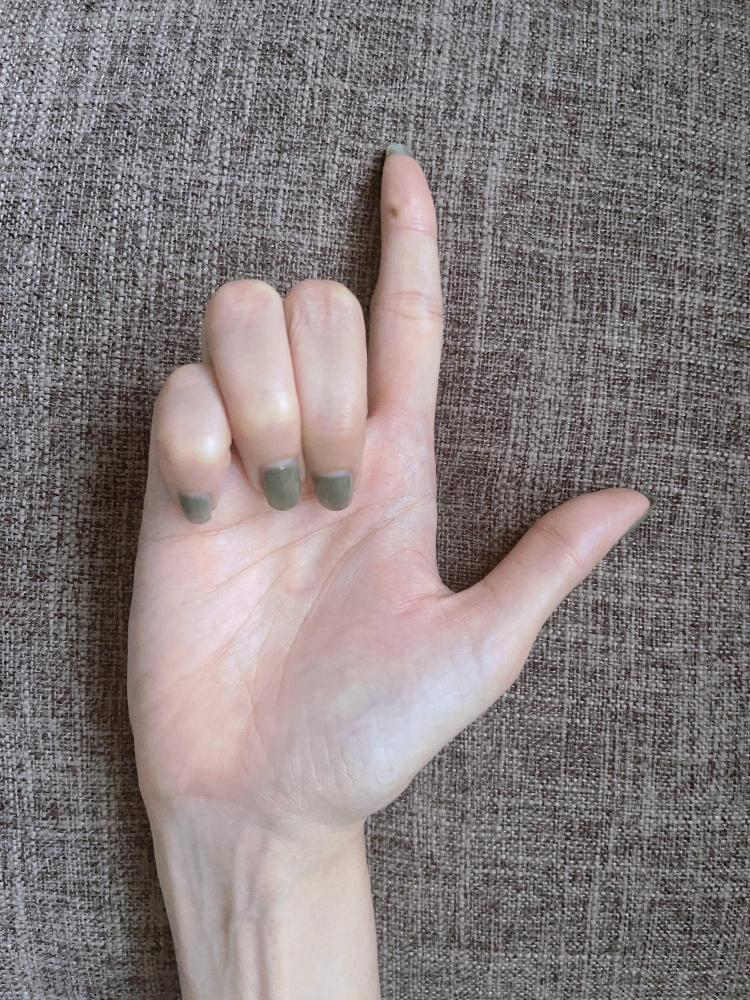l: (116, 135, 656, 831)
